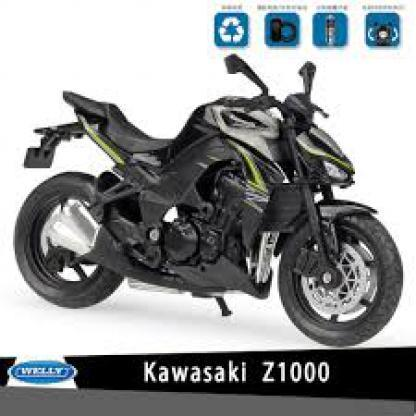Motorcycle: (11, 60, 411, 341)
